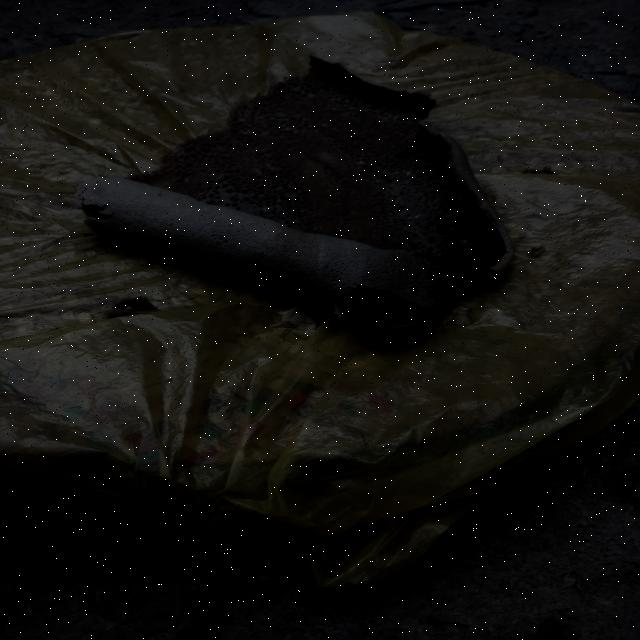injera_mold: (376, 113, 401, 123), (458, 235, 476, 248), (280, 125, 302, 134), (383, 156, 400, 164), (266, 207, 280, 216), (402, 170, 417, 178), (347, 95, 357, 104), (364, 103, 374, 111), (352, 116, 363, 123), (240, 129, 252, 135), (291, 208, 302, 214), (434, 144, 444, 150), (415, 214, 421, 220), (358, 160, 364, 164), (238, 118, 246, 121), (374, 182, 381, 185), (449, 228, 454, 232), (458, 196, 462, 201), (350, 173, 354, 177)
